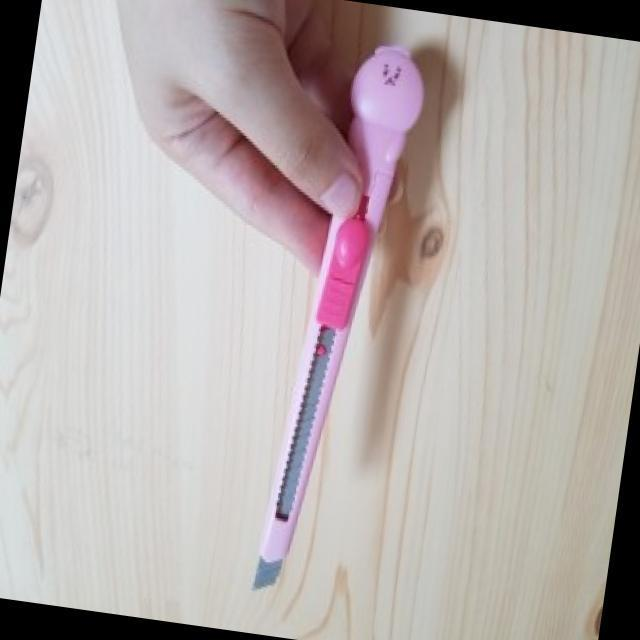cutter: (234, 18, 448, 624)
